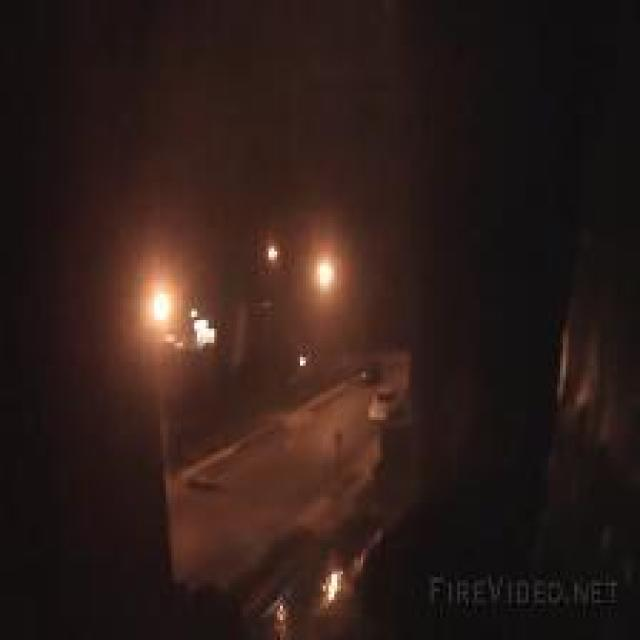other: (108, 233, 223, 380), (245, 557, 379, 629), (242, 232, 354, 310)
